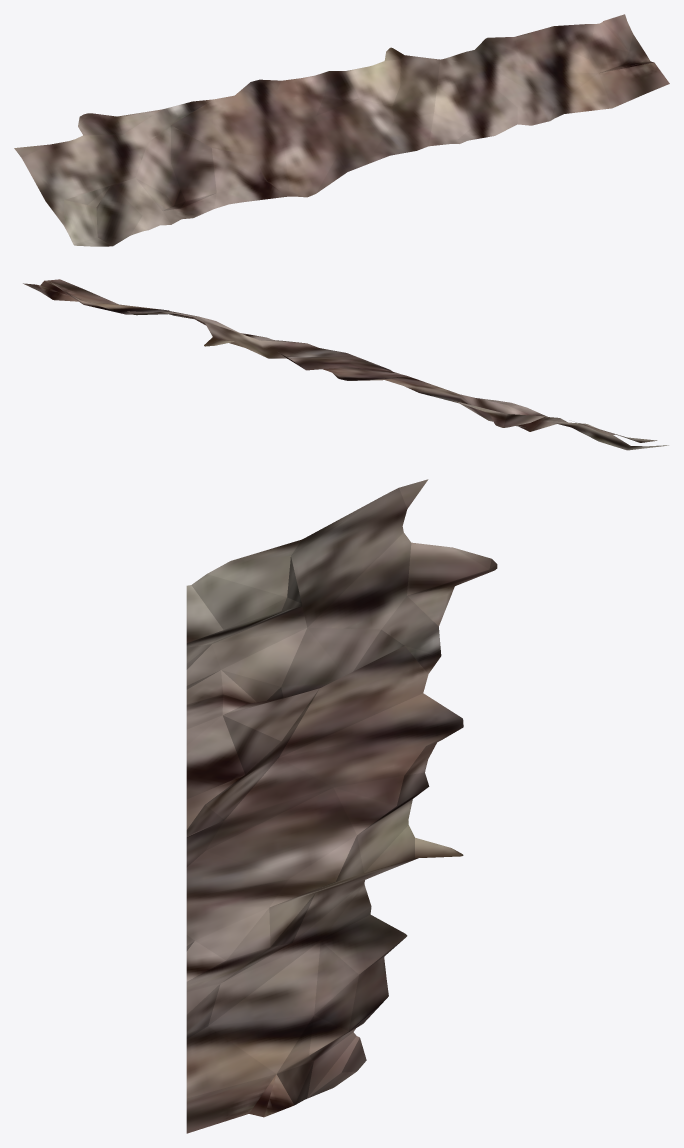
3 views of the same model, one above another, from view 1: azimuth 30°, elevation 25°; view 2: azimuth 150°, elevation 25°; view 3: azimuth 270°, elevation 25° (orthographic). The views are drawn at different scales.
Bounding box in the file's own units: 1.67 × 0.1702 × 0.3784.
Materials: 1 (1 with a texture image).
